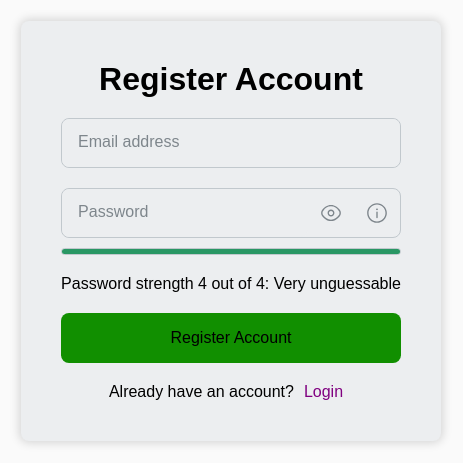
it: Functionality › Form; Input validation; error message on invalid password strength
Type "abc" into the password field with test id "password-strength-input" at (185, 213), box [62, 189, 308, 237]
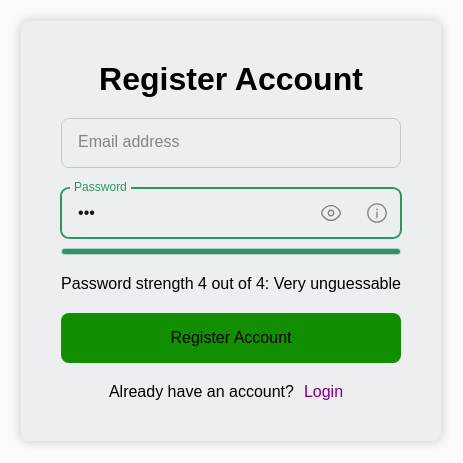
Type "valid@address.com" into the field labelled "Email address" at (231, 143), box [62, 119, 400, 167]
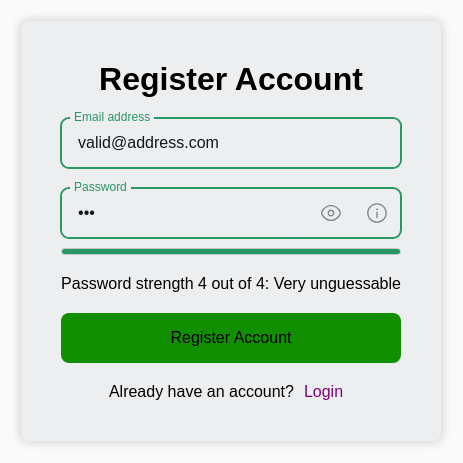
Click the button "Register Account" at (231, 338), box [61, 313, 401, 363]
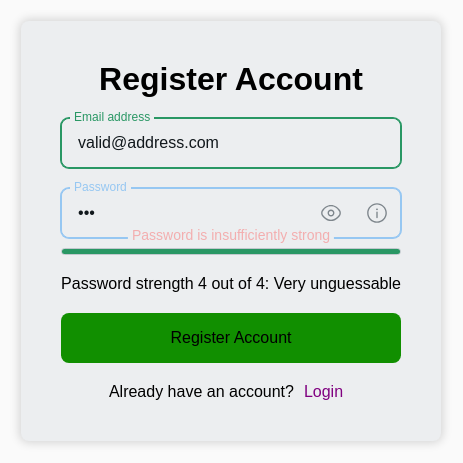
Now the message reads "Password is insufficiently strong", box [132, 227, 330, 243]
